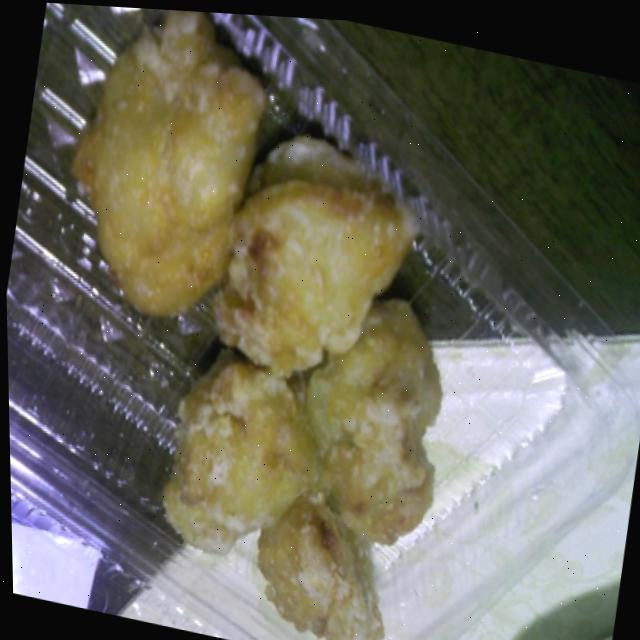鸡肉料理 含炸鸡: (15, 1, 521, 640)
